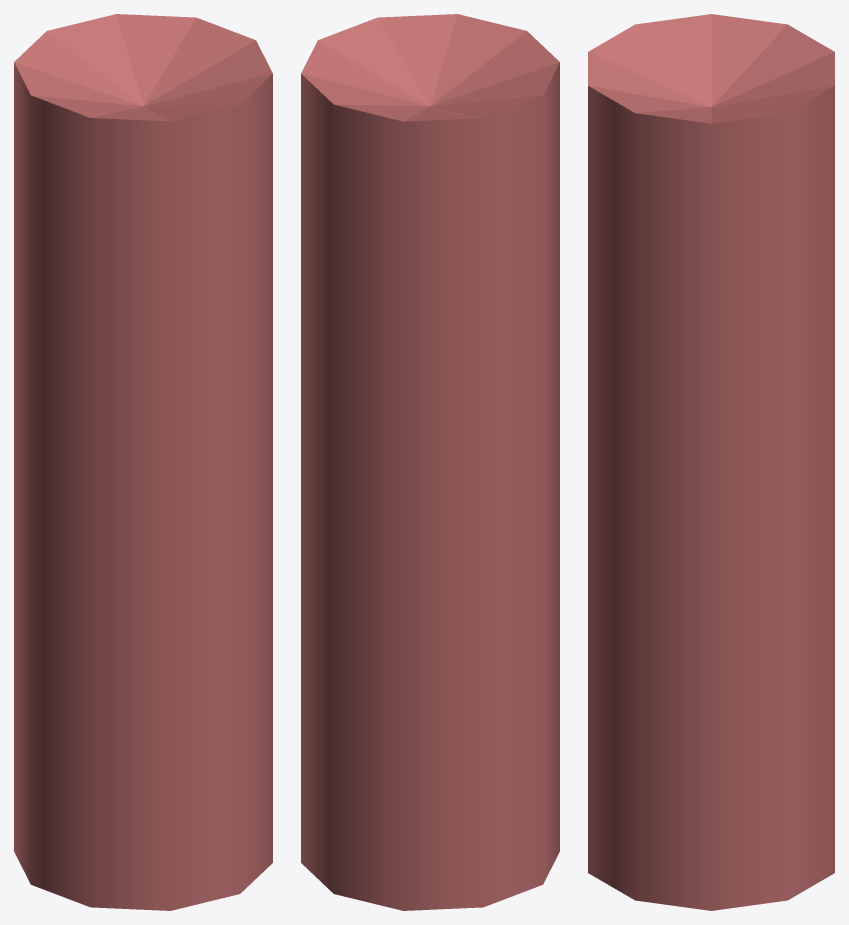
File: Boost.fbx
3 renders of one model, left to right at view 1: azimuth 30°, elevation 25°; view 2: azimuth 150°, elevation 25°; view 3: azimuth 270°, elevation 25°, orthographic.
Parts seen in each view (by area): view 1: Boost:Boost; view 2: Boost:Boost; view 3: Boost:Boost.
Part boxes in pixels (left/top/right/bottom): Boost:Boost: left=14, top=14, right=272, bottom=910; Boost:Boost: left=301, top=14, right=559, bottom=910; Boost:Boost: left=588, top=14, right=834, bottom=910.
Bounding box in the file's own units: 44.33 × 156 × 42.16.
